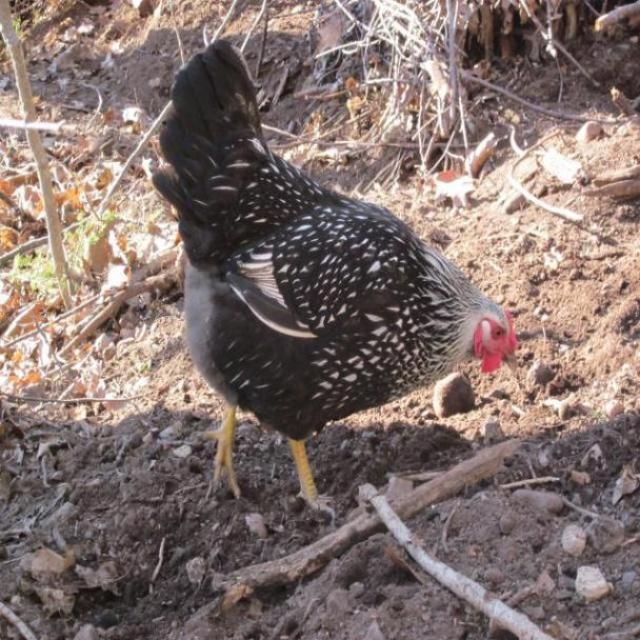Chicken: (150, 45, 513, 527)
